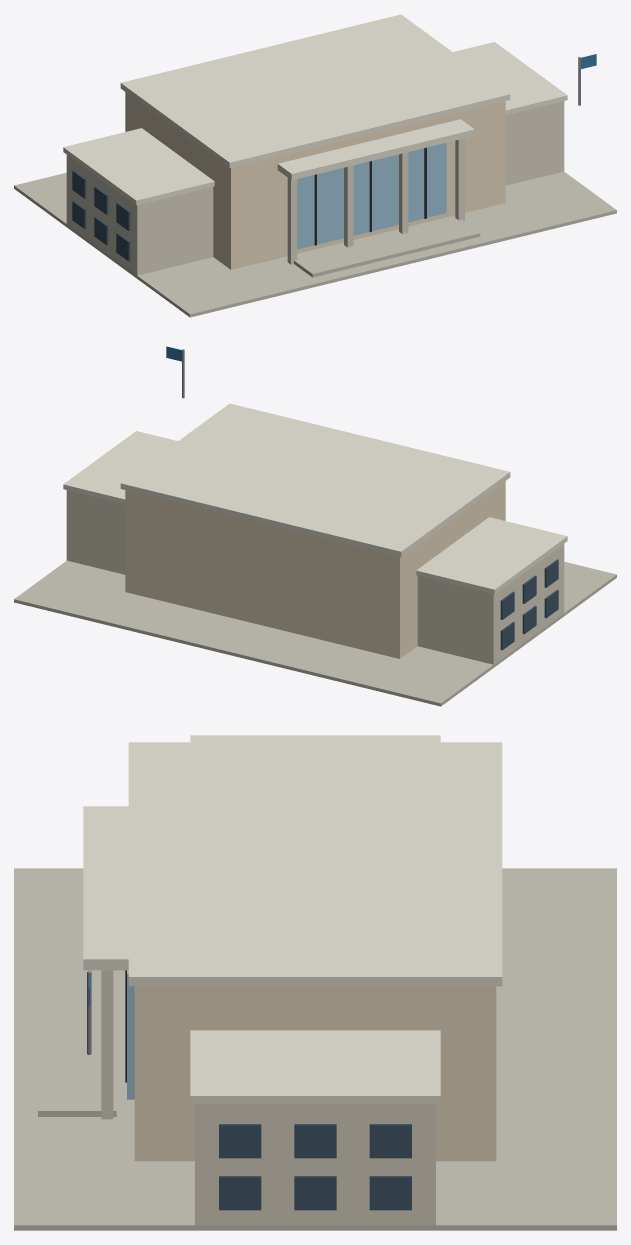
The model's file is building.civic-center.glb.
The picture shows the model from 3 angles, top to bottom: view 1: azimuth 30°, elevation 25°; view 2: azimuth 150°, elevation 25°; view 3: azimuth 270°, elevation 25°; orthographic projection. The views are drawn at different scales.
Parts seen in each view (by area): view 1: building.civic-center; view 2: building.civic-center; view 3: building.civic-center.
Part boxes in pixels (x1,y1,x2,y2): building.civic-center: (14,14,616,317); building.civic-center: (14,346,616,706); building.civic-center: (14,735,616,1230).
Size of the model in its own units: 28.3 by 9 by 20.
